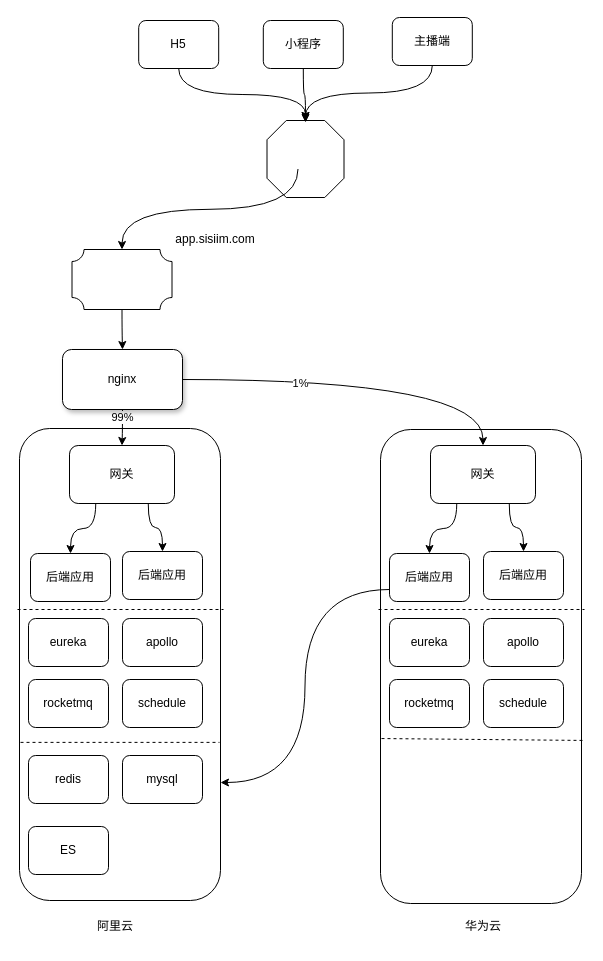
Image size: 603x961. Some labels were removed from this diagram. Here are the shapes that lost their labels. From the top down, the centre of each, then its label:
At point (305, 159): "DNS".
At point (121, 279): "SLB".
